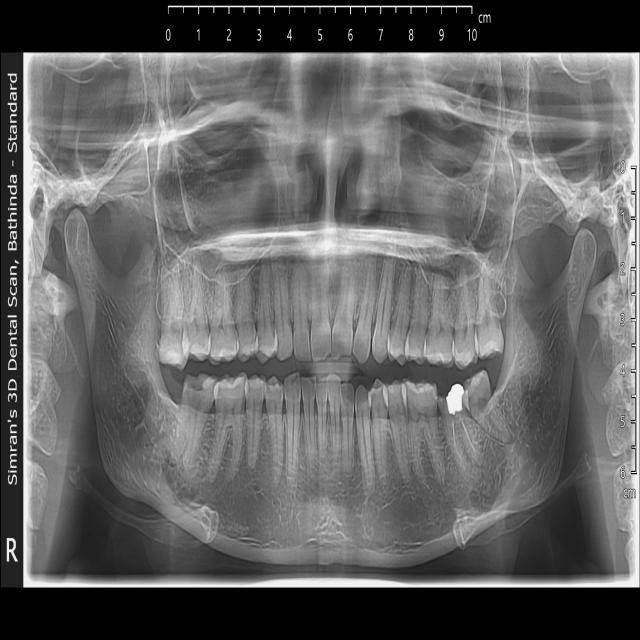Caries: (182, 372, 217, 413), (475, 320, 501, 359)
Filling: (447, 387, 463, 416)
Root Canal Treatment: (436, 382, 487, 474)
